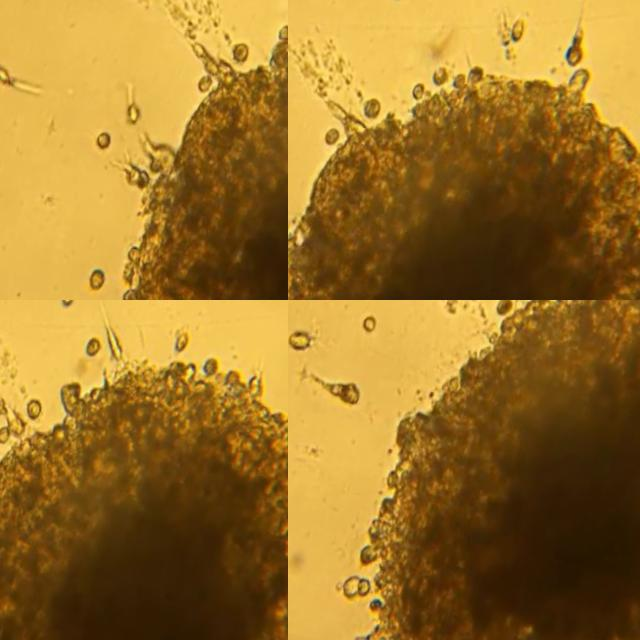cell: (320, 375, 363, 407), (105, 312, 124, 356), (11, 404, 29, 437), (569, 25, 585, 62), (293, 331, 316, 351), (232, 41, 252, 62), (0, 66, 18, 87), (94, 268, 111, 289), (349, 575, 366, 596), (512, 16, 526, 41), (366, 98, 383, 117), (100, 128, 115, 149), (199, 75, 216, 92), (327, 126, 342, 144), (87, 336, 102, 354), (132, 100, 143, 124), (30, 400, 45, 417), (178, 330, 192, 347), (498, 300, 515, 314), (0, 426, 14, 442), (437, 67, 450, 84), (416, 81, 427, 100), (367, 315, 380, 331), (0, 394, 10, 414), (364, 579, 376, 594), (64, 300, 75, 305)
tumor_mass: (363, 300, 640, 640), (288, 61, 640, 300), (0, 355, 288, 640), (111, 25, 288, 300)
